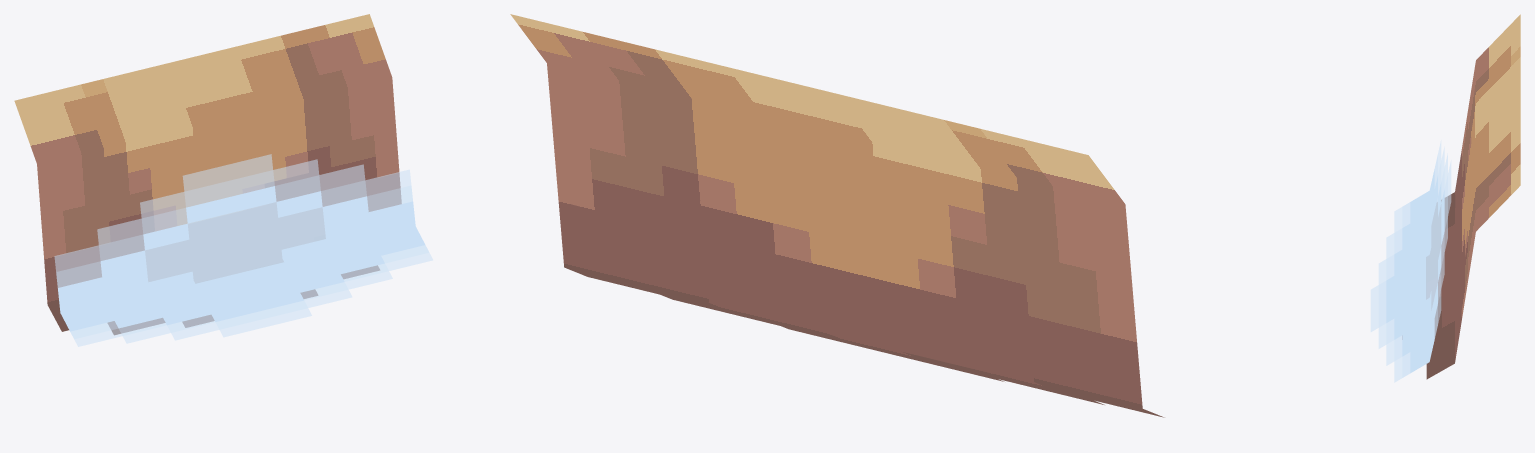
The picture shows the model from 3 angles, left to right: view 1: azimuth 30°, elevation 25°; view 2: azimuth 150°, elevation 25°; view 3: azimuth 270°, elevation 25°; orthographic projection. The views are drawn at different scales.
Size of the model in its own units: 1 by 0.6892 by 0.5459.
Materials: 2 (2 with a texture image).
